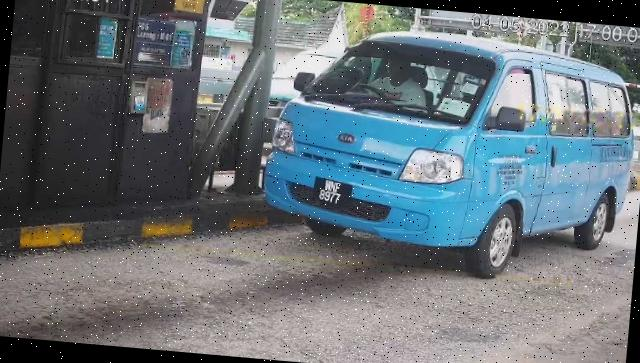License_Plate: (313, 176, 356, 212)
van: (258, 18, 640, 290)
